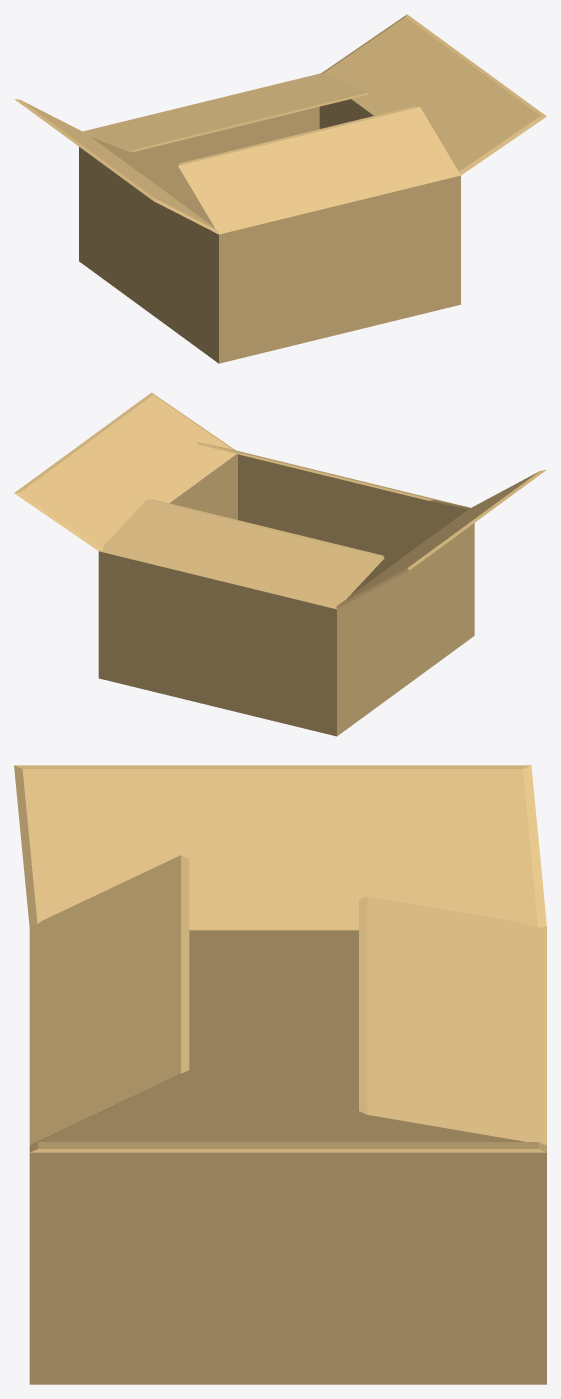
The picture shows the model from 3 angles, top to bottom: view 1: azimuth 30°, elevation 25°; view 2: azimuth 150°, elevation 25°; view 3: azimuth 270°, elevation 25°; orthographic projection. The views are drawn at different scales.
Visible parts, largest first — view 1: Cube; view 2: Cube; view 3: Cube.
Part boxes in pixels (box(x1,y1,x2,y2)): Cube: box(14, 14, 546, 363); Cube: box(14, 392, 546, 736); Cube: box(14, 765, 546, 1384).
Size of the model in its own units: 955 by 419 by 599.
